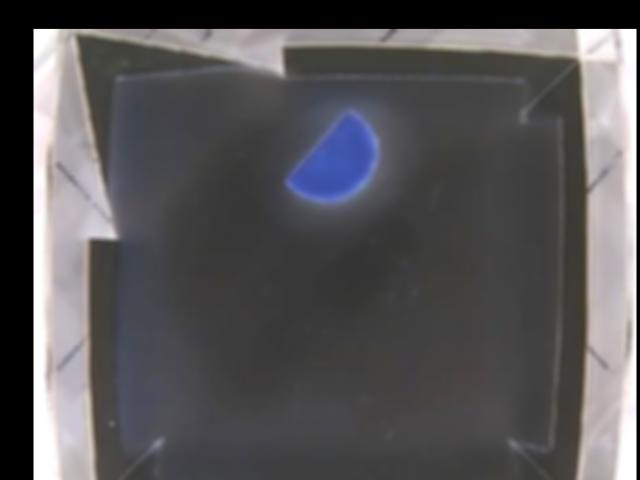Potato: (282, 111, 381, 200)
